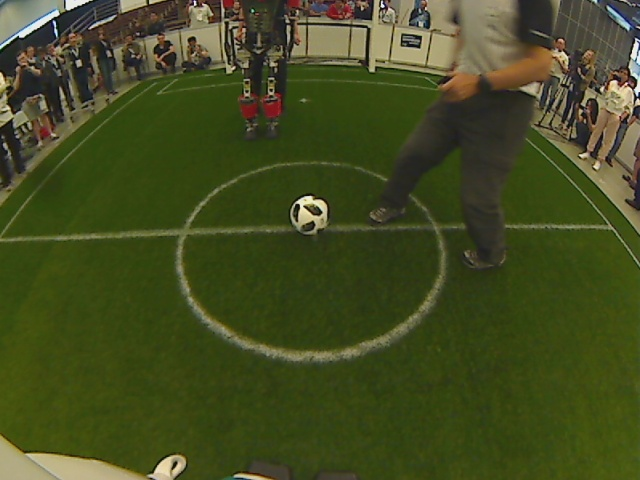ball: (287, 191, 333, 239)
